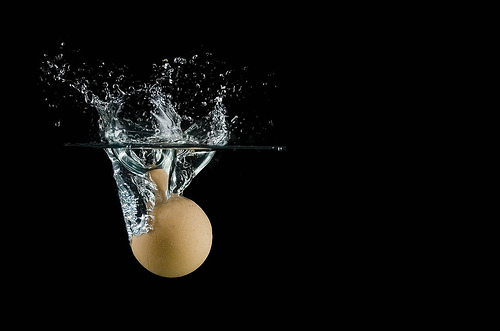egg: (123, 165, 216, 277)
